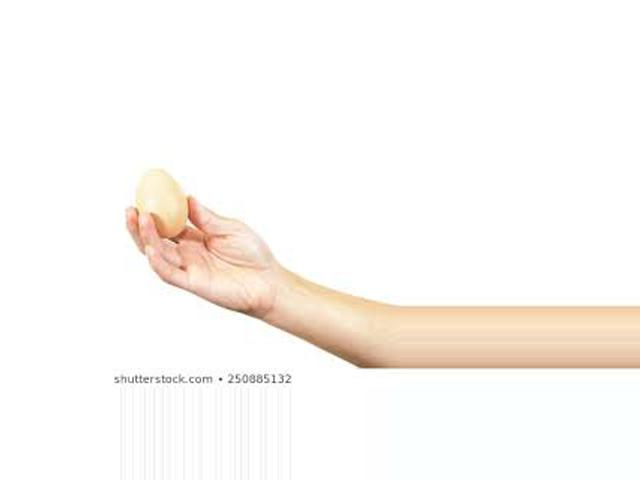egg: (135, 167, 188, 240)
